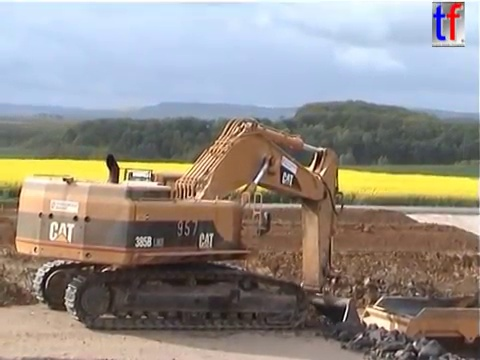excavator: (11, 114, 364, 351)
truck: (359, 291, 480, 360)
